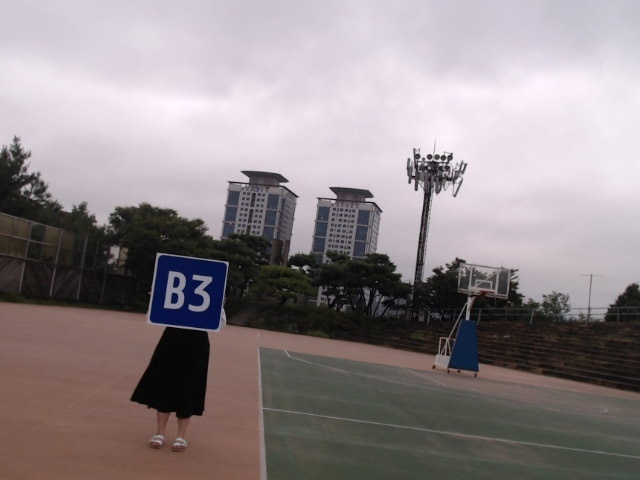delivery_b3: (147, 253, 229, 331)
